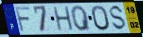7: (33, 5, 49, 33)
F: (14, 6, 32, 33)
H: (52, 5, 75, 32)
O: (91, 5, 111, 32)
Q: (70, 5, 93, 32)
S: (109, 4, 128, 32)
